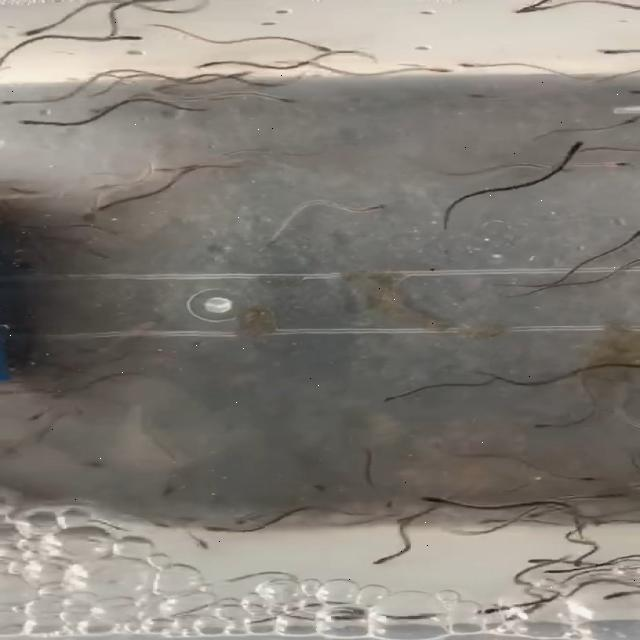active_glass_eel: (257, 85, 314, 108), (510, 0, 570, 20), (356, 552, 414, 572), (66, 197, 114, 220), (348, 200, 395, 222), (15, 110, 58, 134), (420, 486, 469, 506), (594, 156, 640, 176), (373, 386, 418, 406), (408, 62, 448, 82), (510, 421, 560, 437), (520, 552, 560, 572), (182, 58, 228, 73), (116, 29, 172, 41), (448, 58, 481, 78), (596, 40, 634, 56), (593, 586, 626, 604), (305, 38, 342, 54), (185, 535, 210, 558), (571, 471, 601, 488), (615, 230, 640, 250), (558, 139, 600, 150), (546, 163, 579, 176), (198, 524, 225, 538)
